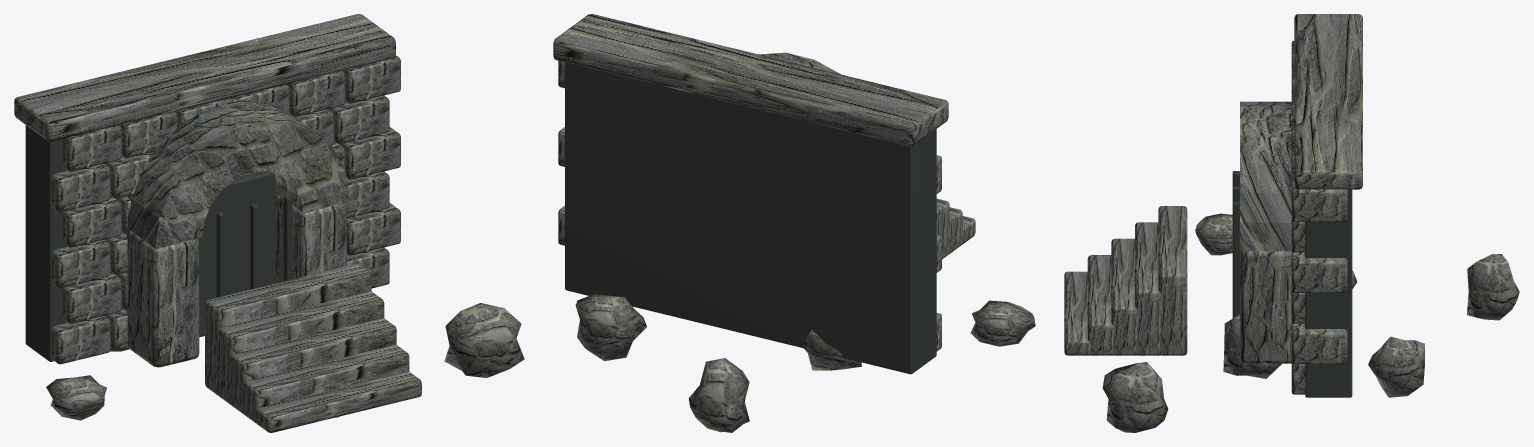
The model's file is env-site-dungeon.glb.
3 views of the same model, side by side, from view 1: azimuth 30°, elevation 25°; view 2: azimuth 150°, elevation 25°; view 3: azimuth 270°, elevation 25° (orthographic). The views are drawn at different scales.
Parts seen in each view (by area): view 1: site dungeon · authored textured miniature; view 2: site dungeon · authored textured miniature; view 3: site dungeon · authored textured miniature.
Boxes of the visible parts, x1,y1,x2,y2 form: site dungeon · authored textured miniature: (14,14,524,432); site dungeon · authored textured miniature: (553,14,1035,432); site dungeon · authored textured miniature: (1064,14,1519,432).
Size of the model in its own units: 1.26 by 0.7862 by 1.26.
Materials: 2 (1 with a texture image).
